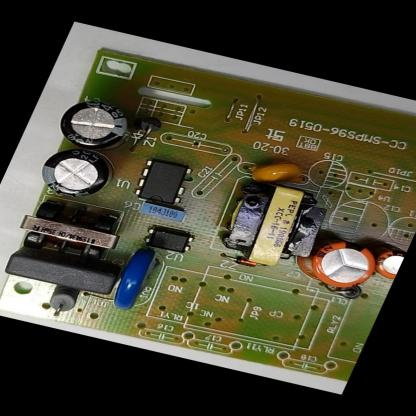Cap1: (286, 227, 388, 298)
Cap2: (365, 240, 408, 281)
Cap3: (30, 140, 123, 205)
Cap4: (45, 91, 140, 159)
MOSFET: (125, 152, 201, 211)
Mov: (101, 242, 166, 314)
Resistor: (37, 281, 89, 324)
Transformer: (206, 169, 342, 277), (9, 187, 137, 273)
